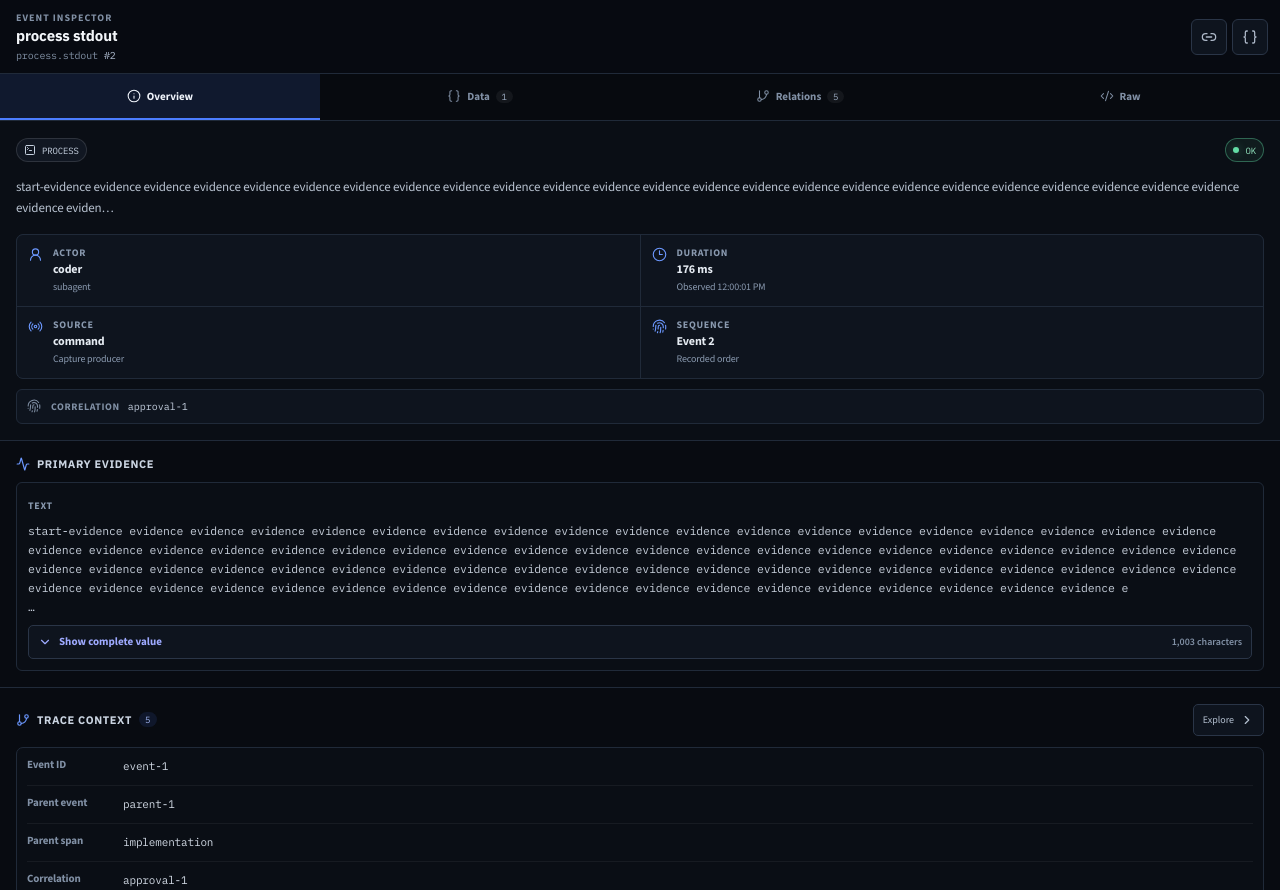
Inspector › makes long evidence explicitly expandable and preserves the complete value
Click the button "Show complete value 1,003 characters". click: (110, 642)
box: [28,625,1252,659]
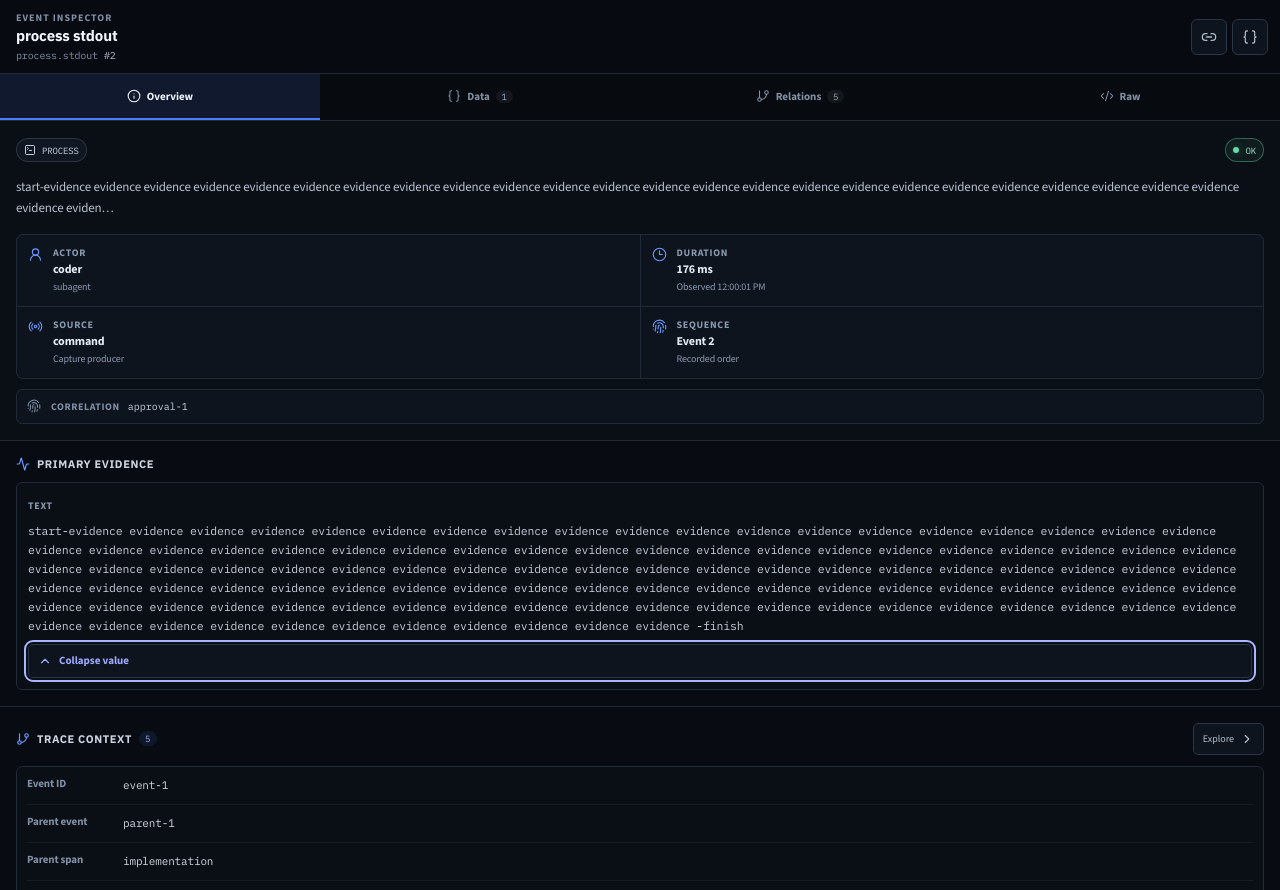
Expected: the button named "Show complete value" is expanded, [28,644,1252,678]
